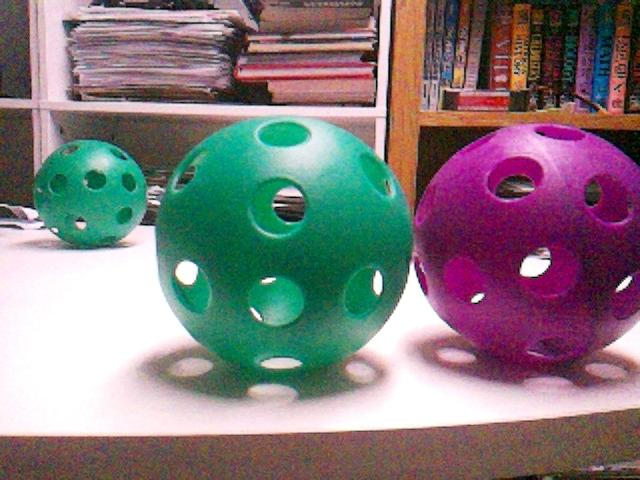Green: (155, 117, 410, 373), (30, 140, 148, 248)
Purple: (411, 126, 639, 367)
